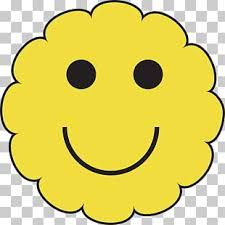feliz: (10, 3, 224, 225), (56, 50, 168, 192)
